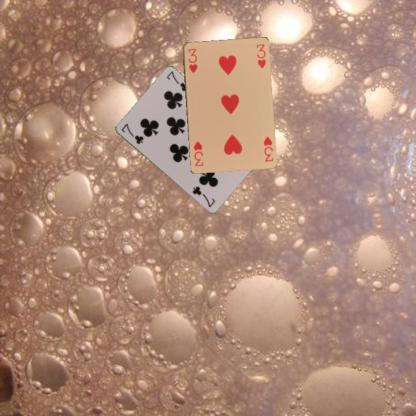3h: (260, 134, 274, 163), (186, 45, 198, 74)
7c: (118, 120, 144, 146)
